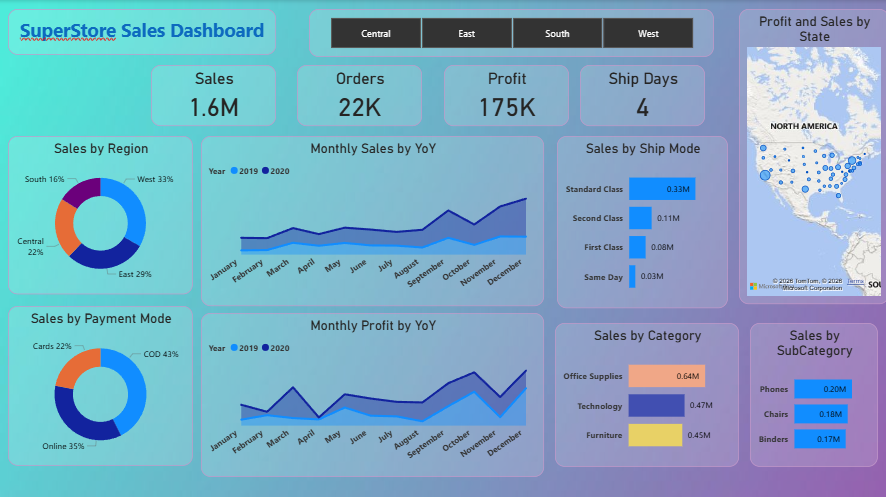

The page's visual inventory and layout, read from the dashboard file:
{"tool":"powerbi","page":{"name":"Page 1","canvas":[1280,720],"ordinal":0},"visuals":[{"type":"clusteredBarChart","title":"Sales by Category","fields":{"Category":["SuperStore_Sales_Dataset.Category"],"Y":["Sum(SuperStore_Sales_Dataset.Sales)"]},"box":[799.2,465.1,265,207.4],"z":0},{"type":"clusteredBarChart","title":"Sales by Ship Mode","fields":{"Category":["SuperStore_Sales_Dataset.Ship Mode"],"Y":["Sum(SuperStore_Sales_Dataset.Sales)"]},"box":[802.1,195.8,246.2,247.7],"z":1000},{"type":"stackedAreaChart","title":"Monthly Sales by YoY","fields":{"Y":["Sum(SuperStore_Sales_Dataset.Sales)"],"Category":["SuperStore_Sales_Dataset.Order Date.Variation.Date Hierarchy.Month","SuperStore_Sales_Dataset.Order Date.Variation.Date Hierarchy.Day"],"Series":["SuperStore_Sales_Dataset.Order Date.Variation.Date Hierarchy.Year"]},"box":[289.4,195.8,493.9,244.8],"z":2000},{"type":"clusteredBarChart","title":"Sales by SubCategory","fields":{"Y":["Sum(SuperStore_Sales_Dataset.Sales)"],"Category":["SuperStore_Sales_Dataset.Sub-Category"]},"box":[1080,465.1,184.3,207.4],"z":3000},{"type":"stackedAreaChart","title":"Monthly Profit by YoY","fields":{"Category":["SuperStore_Sales_Dataset.Order Date.Variation.Date Hierarchy.Month","SuperStore_Sales_Dataset.Order Date.Variation.Date Hierarchy.Day"],"Series":["SuperStore_Sales_Dataset.Order Date.Variation.Date Hierarchy.Year"],"Y":["Sum(SuperStore_Sales_Dataset.Profit)"]},"box":[289.4,450.7,493.9,236.2],"z":4000},{"type":"map","title":"Profit and Sales by State","fields":{"Category":["SuperStore_Sales_Dataset.State"],"Size":["Sum(SuperStore_Sales_Dataset.Sales)"]},"box":[1064.2,13,216,424.8],"z":5000},{"type":"donutChart","title":"Sales by Region","fields":{"Y":["Sum(SuperStore_Sales_Dataset.Sales)"],"Category":["SuperStore_Sales_Dataset.Region"]},"box":[11.5,195.8,266.4,227.5],"z":6000},{"type":"donutChart","title":"Sales by Payment Mode","fields":{"Category":["SuperStore_Sales_Dataset.Payment Mode","SuperStore_Sales_Dataset.Segment"],"Y":["Sum(SuperStore_Sales_Dataset.Sales)"]},"box":[11.5,440.6,266.4,230.4],"z":7000},{"type":"slicer","fields":{"Values":["SuperStore_Sales_Dataset.Region"]},"box":[445,13,583.2,69.1],"z":8000},{"type":"textbox","box":[11.5,13,385.9,66.2],"z":9000},{"type":"card","title":"Sales","fields":{"Values":["Sum(SuperStore_Sales_Dataset.Sales)"]},"box":[217.4,93.6,180,87.8],"z":10000},{"type":"card","title":"Orders","fields":{"Values":["Sum(SuperStore_Sales_Dataset.Quantity)"]},"box":[427.7,93.6,180,87.8],"z":11000},{"type":"card","title":"Profit","fields":{"Values":["Sum(SuperStore_Sales_Dataset.Profit)"]},"box":[639.4,93.6,180,87.8],"z":12000},{"type":"card","title":"Ship Days","fields":{"Values":["Avg(SuperStore_Sales_Dataset.AvgDelivery)"]},"box":[835.2,93.6,180,87.8],"z":13000}]}

Visuals, with their boxes in screenshot pixels (x1, y1, x2, y2), scaled from the page's 1280x720 canvas onto the 886x497 screenshot:
"Sales by Category" clusteredBarChart: <bbox>553, 321, 737, 464</bbox>
"Sales by Ship Mode" clusteredBarChart: <bbox>555, 135, 726, 306</bbox>
"Monthly Sales by YoY" stackedAreaChart: <bbox>200, 135, 542, 304</bbox>
"Sales by SubCategory" clusteredBarChart: <bbox>748, 321, 875, 464</bbox>
"Monthly Profit by YoY" stackedAreaChart: <bbox>200, 311, 542, 474</bbox>
"Profit and Sales by State" map: <bbox>737, 9, 885, 302</bbox>
"Sales by Region" donutChart: <bbox>8, 135, 192, 292</bbox>
"Sales by Payment Mode" donutChart: <bbox>8, 304, 192, 463</bbox>
slicer - SuperStore_Sales_Dataset.Region: <bbox>308, 9, 712, 57</bbox>
textbox: <bbox>8, 9, 275, 55</bbox>
"Sales" card: <bbox>150, 65, 275, 125</bbox>
"Orders" card: <bbox>296, 65, 421, 125</bbox>
"Profit" card: <bbox>443, 65, 567, 125</bbox>
"Ship Days" card: <bbox>578, 65, 703, 125</bbox>
